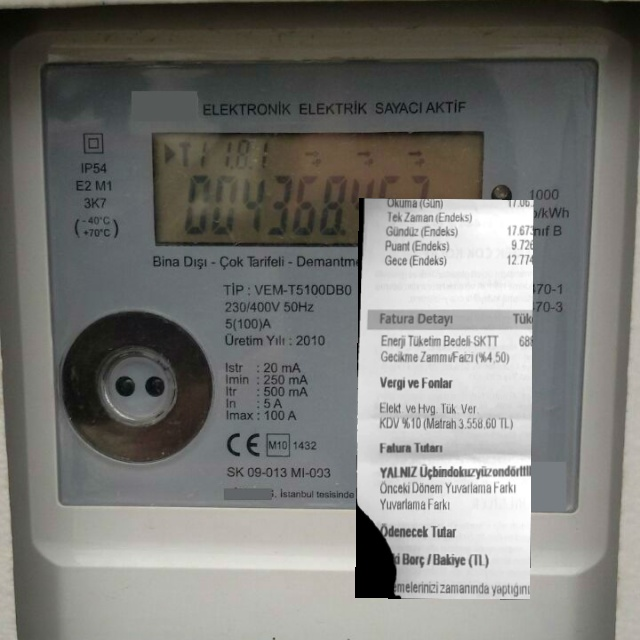electricity-bill: (355, 197, 533, 599)
